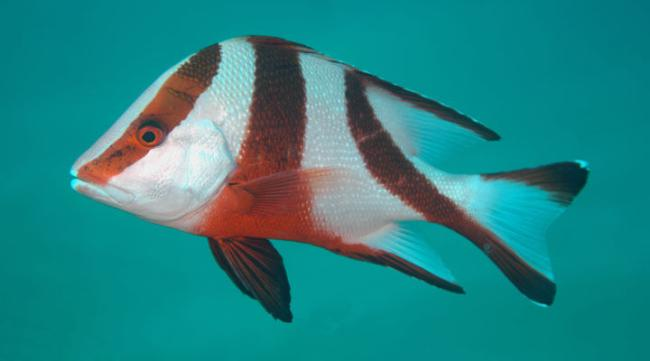fish: (70, 35, 590, 323)
